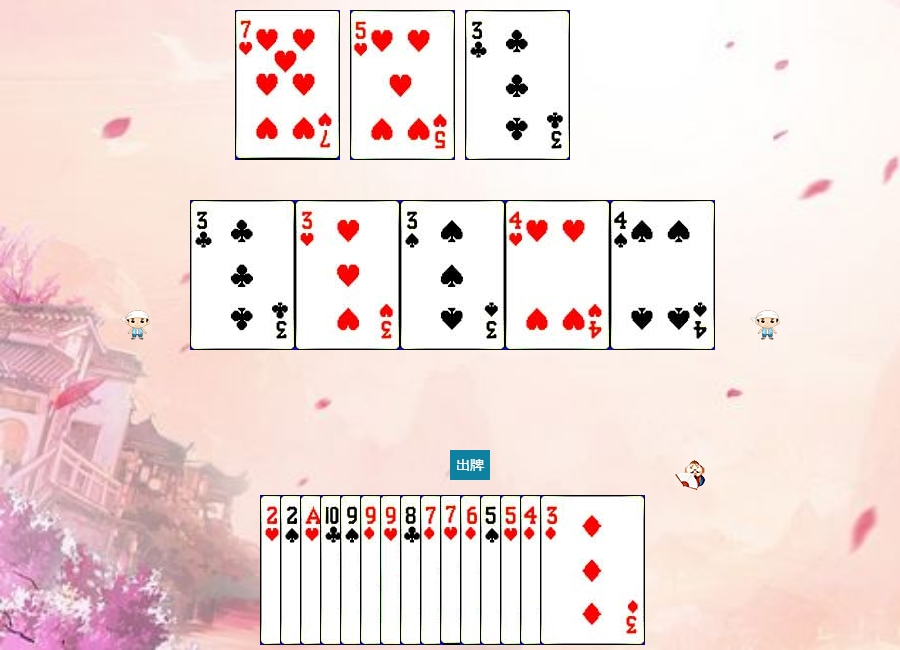10~2: (320, 495, 425, 645)
14~3: (300, 495, 405, 645)
15~3: (260, 495, 365, 645)
15~4: (280, 495, 385, 645)
3~1: (540, 495, 645, 645)
3~2: (465, 10, 570, 160), (190, 200, 295, 350)
3~3: (295, 200, 400, 350)
3~4: (400, 200, 505, 350)
4~1: (520, 495, 625, 645)
4~3: (505, 200, 610, 350)
4~4: (610, 200, 715, 350)
5~3: (350, 10, 455, 160), (500, 495, 605, 645)
5~4: (480, 495, 585, 645)
6~1: (460, 495, 565, 645)
7~1: (420, 495, 525, 645)
7~3: (235, 10, 340, 160), (440, 495, 545, 645)
8~2: (400, 495, 505, 645)
9~1: (360, 495, 465, 645)
9~3: (380, 495, 485, 645)
9~4: (340, 495, 445, 645)
